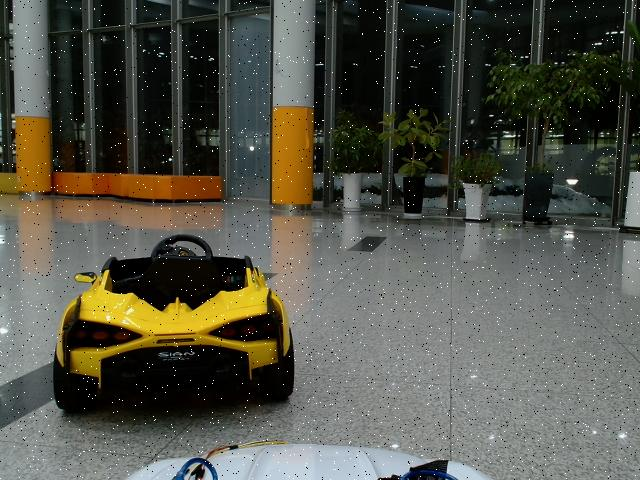car: (54, 234, 296, 415)
